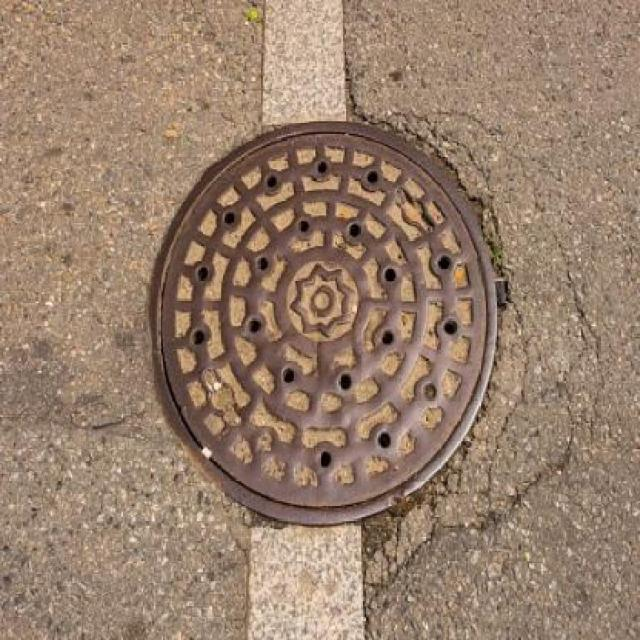Sewer Cover: (143, 124, 531, 529)
